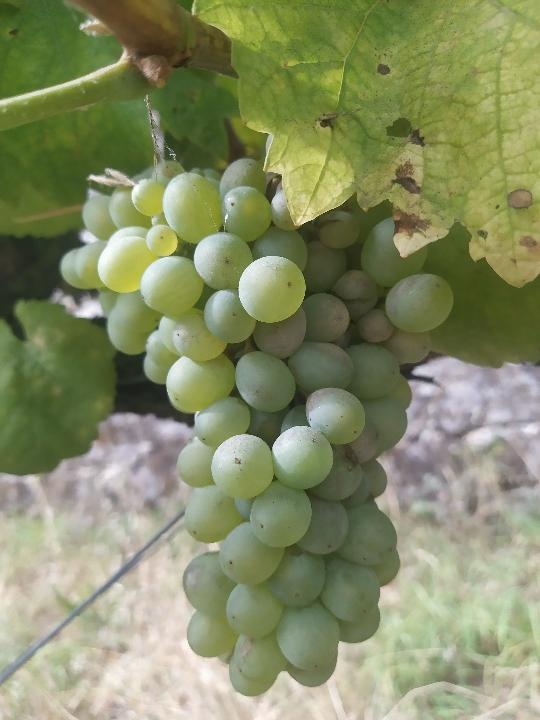grape: (56, 157, 455, 701)
